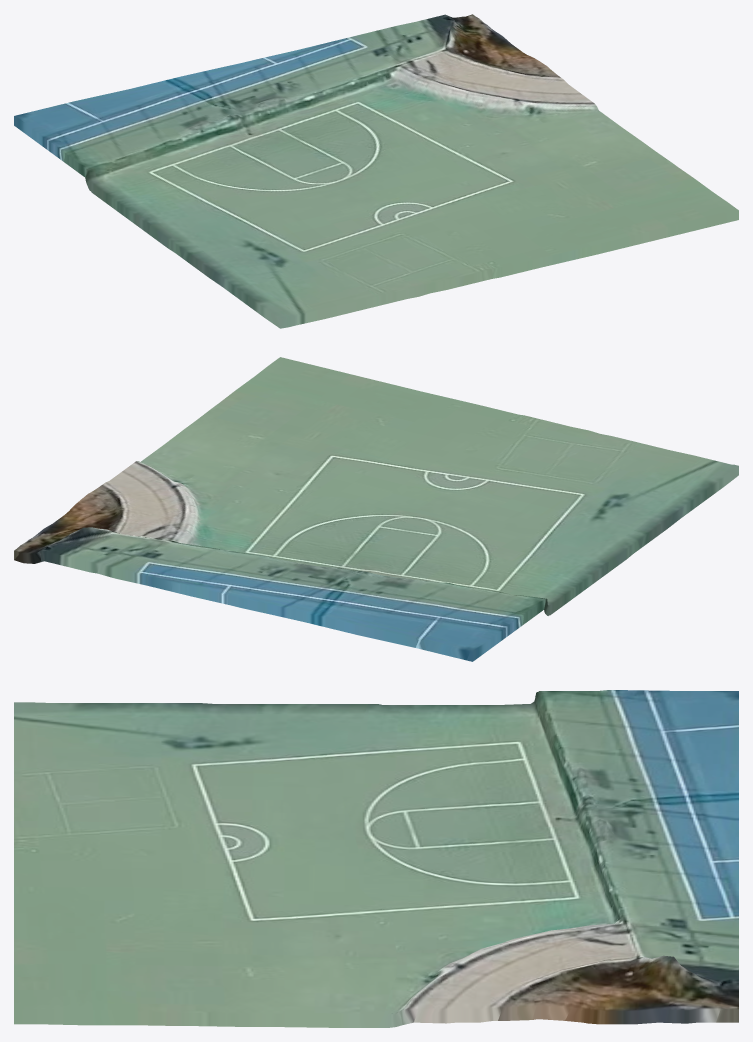
File: z20-167737-405195-h0-yup-uvflip-v3-world.glb
3 views of the same model, one above another, from view 1: azimuth 30°, elevation 25°; view 2: azimuth 150°, elevation 25°; view 3: azimuth 270°, elevation 25° (orthographic). The views are drawn at different scales.
Bounding box in the file's own units: 30.16 × 1.88 × 30.32.
1 material, 1 textured.
